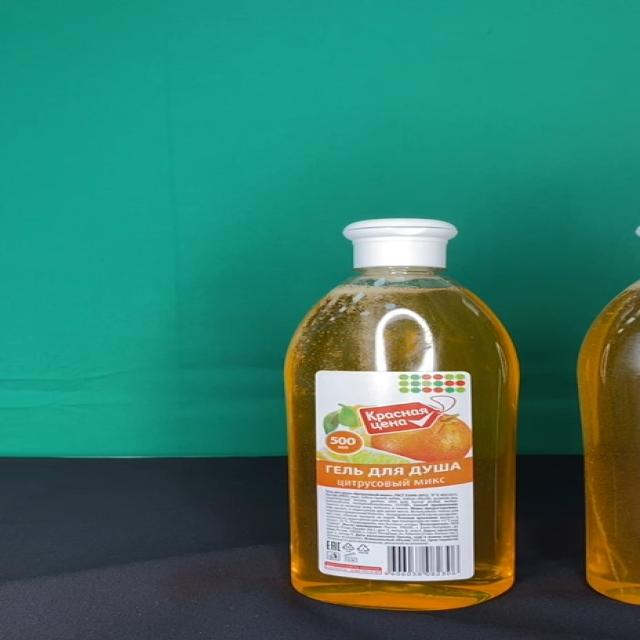Bottle: (284, 217, 521, 611)
Cap: (343, 218, 458, 268)
